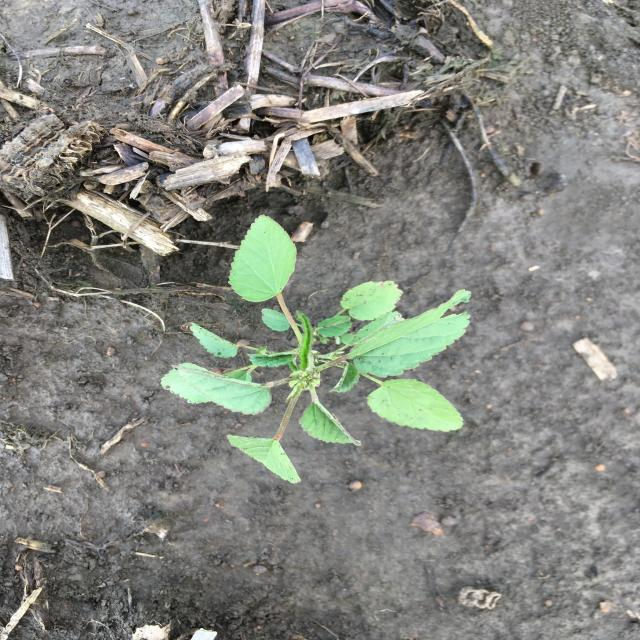PricklySida: (159, 213, 476, 487)
